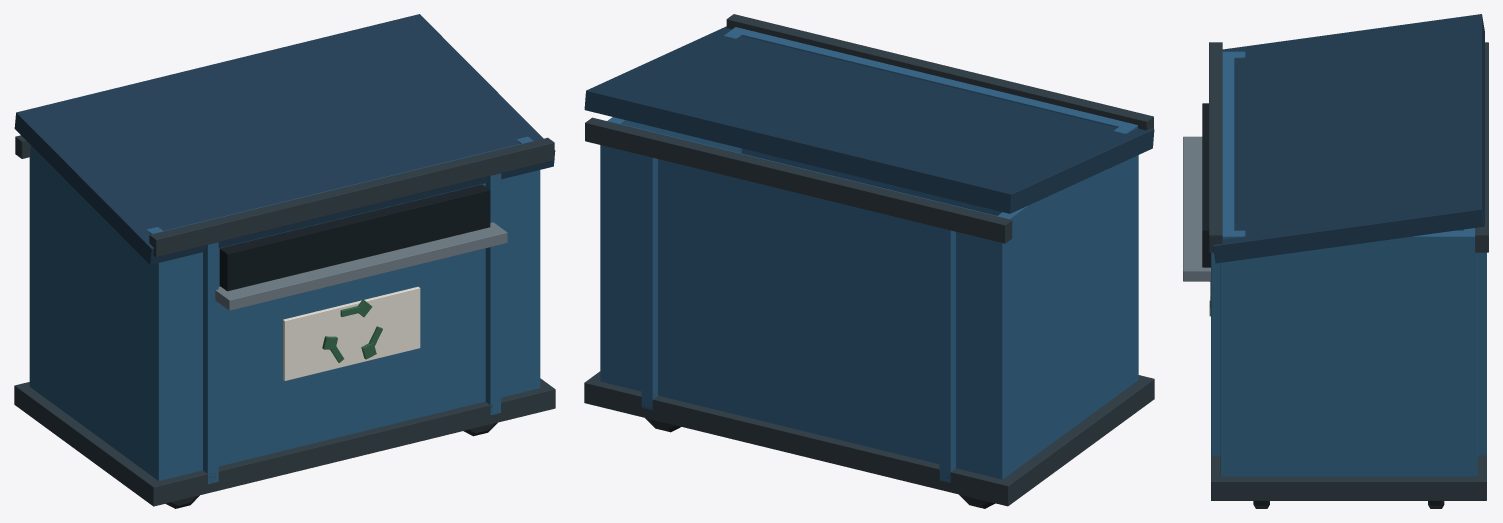
Rendered from b04_cardboard_dumpster_with_slot.glb.
The picture shows the model from 3 angles, left to right: view 1: azimuth 30°, elevation 25°; view 2: azimuth 150°, elevation 25°; view 3: azimuth 270°, elevation 25°; orthographic projection. The views are drawn at different scales.
Parts seen in each view (by area): view 1: b04_cardboard_dumpster_with_slot; view 2: b04_cardboard_dumpster_with_slot; view 3: b04_cardboard_dumpster_with_slot.
Part boxes in pixels (x1,y1,x2,y2): b04_cardboard_dumpster_with_slot: (14,14,555,508); b04_cardboard_dumpster_with_slot: (584,14,1154,508); b04_cardboard_dumpster_with_slot: (1183,14,1488,508).
Bounding box in the file's own units: 2.38 × 1.83 × 1.57.
